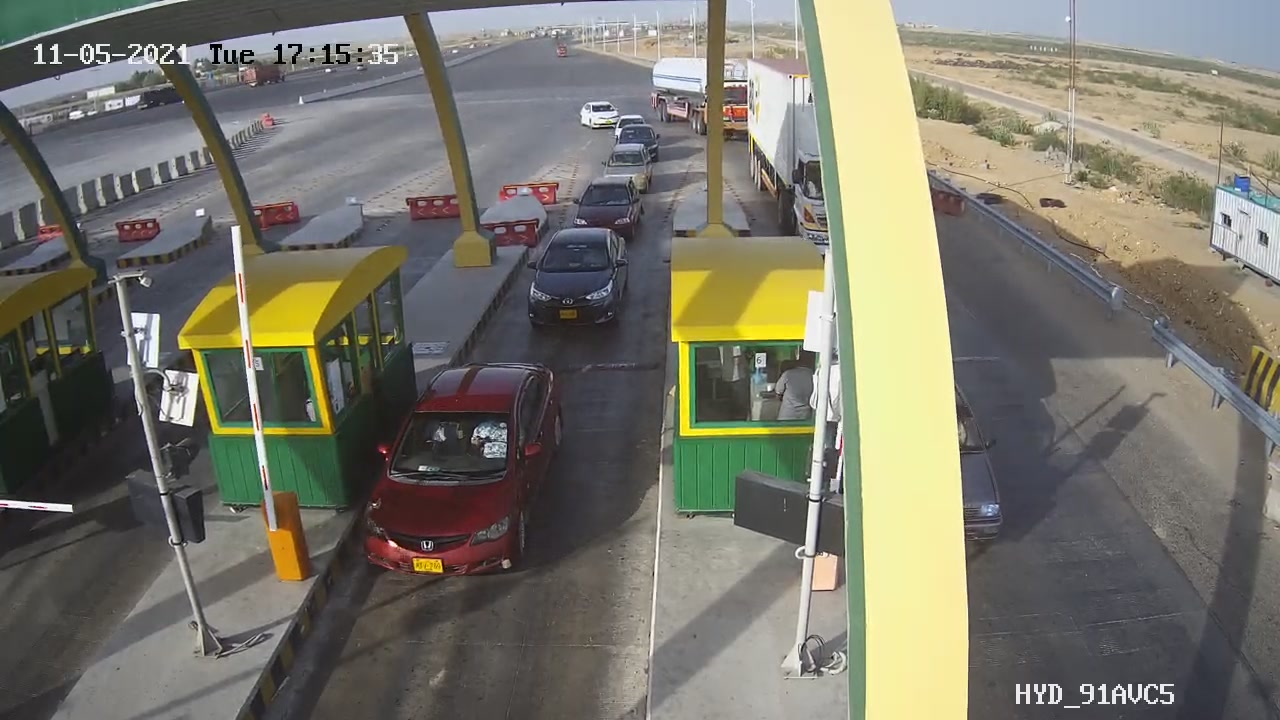F1: (343, 348, 581, 590), (505, 214, 643, 349)
